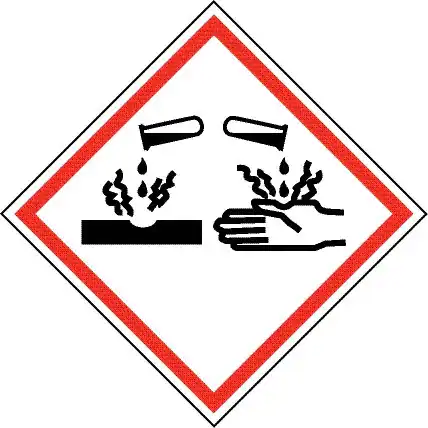Corrosive: (1, 1, 428, 428)
